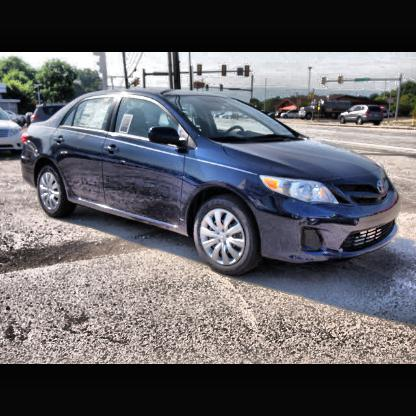Toyota Corolla Sedan 2012: (13, 78, 410, 280)
